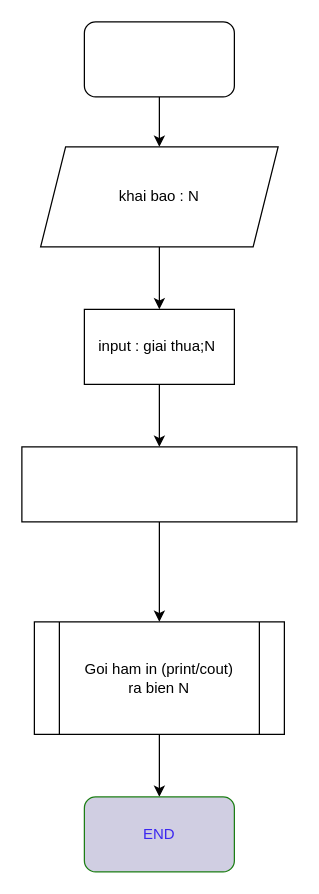
Some shapes in this 319 by 894 pixel diagram are drawn without their labels. The centre of each missing label's shape, as x and y in pixels:
"N*giaiThua(n-1)" belongs at point (159, 484).
"START" belongs at point (158, 59).
